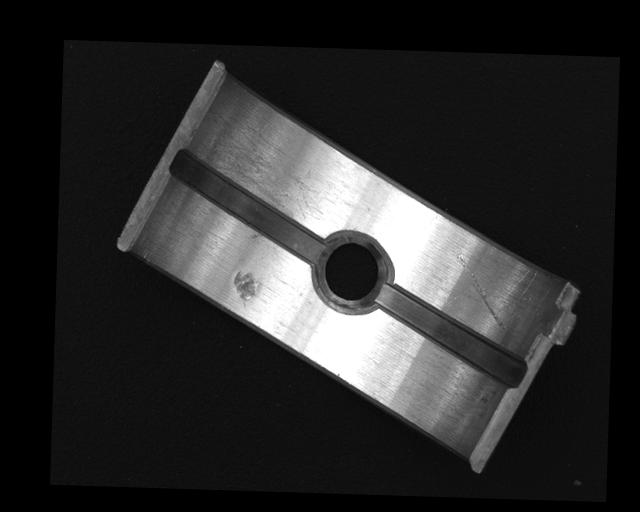bruise: (232, 270, 259, 309)
gap: (166, 149, 328, 264), (374, 283, 527, 389)
hole: (313, 232, 388, 315)
nick: (453, 253, 507, 330)
scratch: (206, 114, 325, 225)
